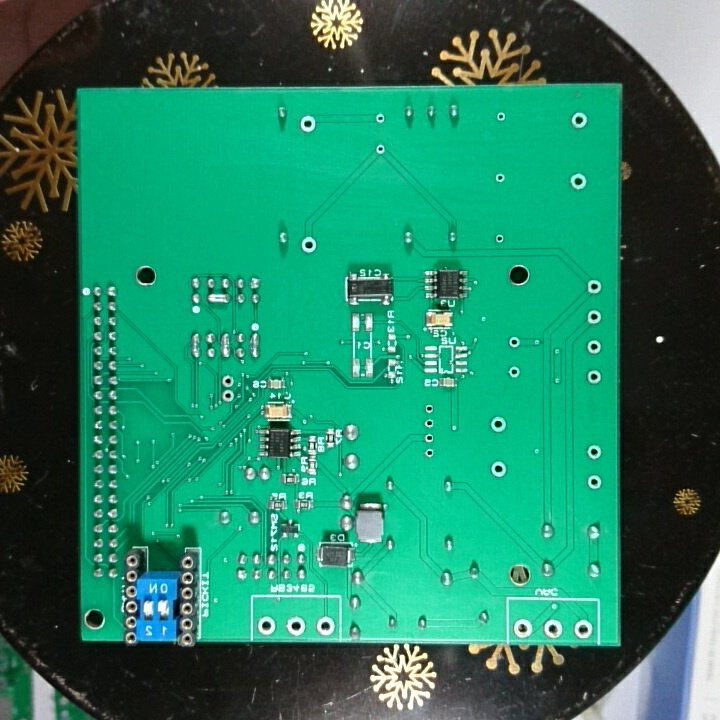F: (254, 614, 281, 637), (571, 615, 594, 641), (542, 614, 563, 640), (285, 615, 308, 638), (297, 234, 321, 256), (511, 616, 534, 638), (297, 114, 319, 137), (488, 413, 508, 438), (314, 612, 333, 638), (584, 472, 605, 495), (488, 459, 511, 480), (584, 441, 605, 463), (567, 171, 589, 192), (568, 109, 588, 131), (583, 367, 606, 386), (583, 276, 602, 298), (584, 308, 605, 327), (582, 338, 603, 356), (218, 387, 237, 405), (420, 400, 439, 417), (492, 170, 511, 187), (422, 443, 438, 463), (506, 363, 523, 381), (491, 230, 508, 248), (370, 110, 387, 128), (218, 372, 236, 389), (420, 415, 437, 432), (505, 334, 522, 351), (493, 109, 511, 125), (372, 140, 388, 158), (422, 429, 438, 446)
P: (215, 329, 234, 359), (248, 329, 264, 363), (204, 290, 233, 308), (188, 329, 204, 360)
